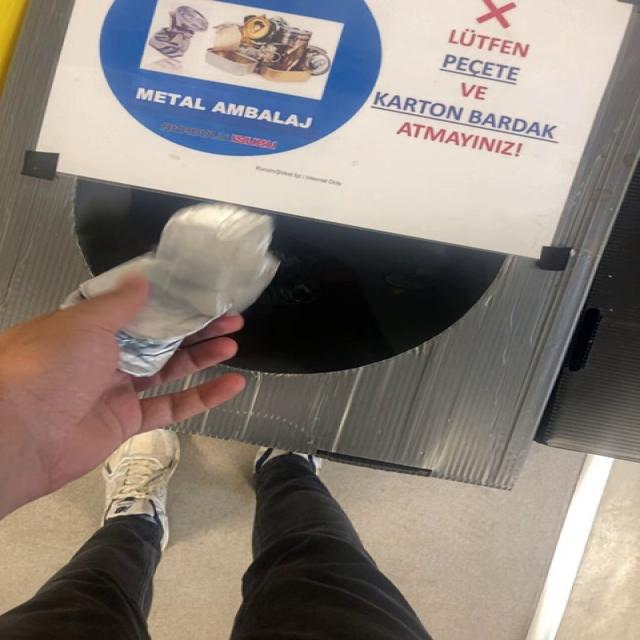bin: (179, 24, 640, 488), (1, 0, 204, 328)
metal: (63, 203, 280, 377)
